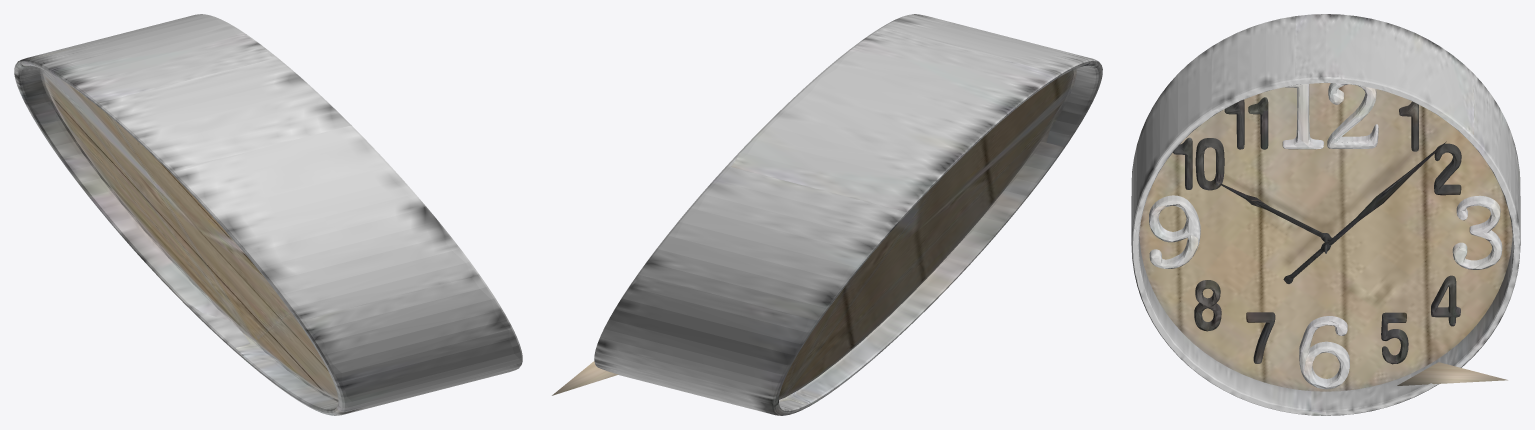
The model's file is clock_0.glb.
The picture shows the model from 3 angles, left to right: view 1: azimuth 30°, elevation 25°; view 2: azimuth 150°, elevation 25°; view 3: azimuth 270°, elevation 25°; orthographic projection. The views are drawn at different scales.
Parts seen in each view (by area): view 1: clock_0; view 2: clock_0; view 3: clock_0.
Part boxes in pixels (<box>): clock_0: <box>14,14,522,415</box>; clock_0: <box>552,14,1102,415</box>; clock_0: <box>1131,14,1520,415</box>.
Size of the model in its own units: 0.7447 by 0.6573 by 0.8709.
1 material, 1 textured.
